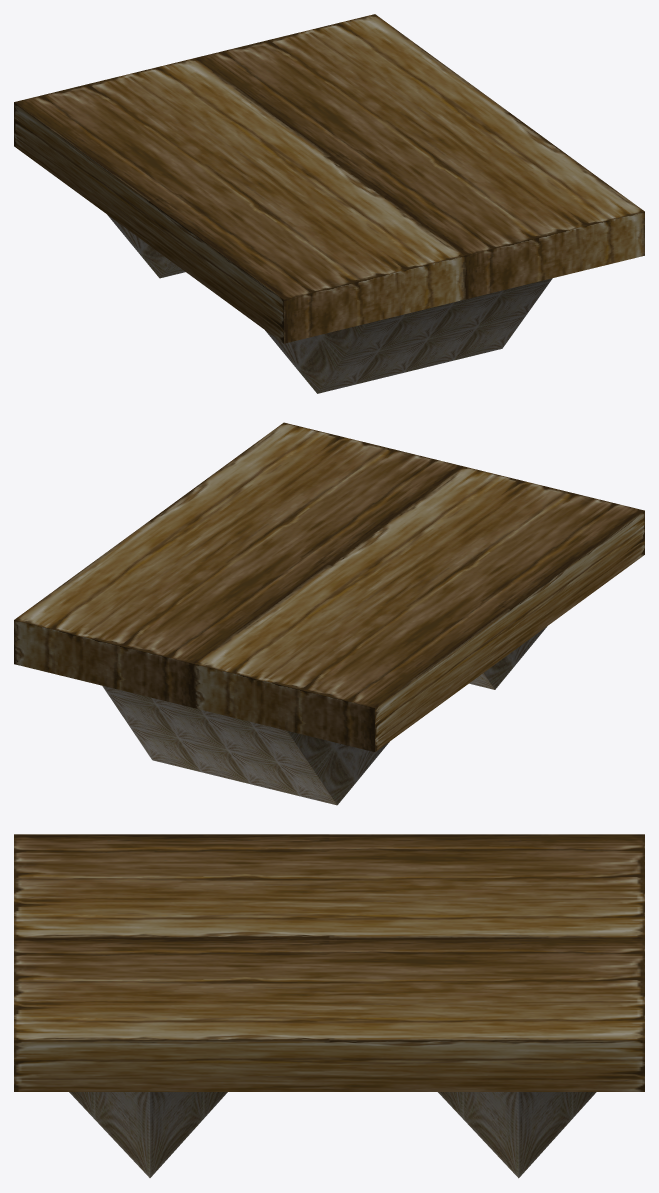
The model's file is pontoonfive-lod2.glb.
3 views of the same model, one above another, from view 1: azimuth 30°, elevation 25°; view 2: azimuth 150°, elevation 25°; view 3: azimuth 270°, elevation 25° (orthographic). The views are drawn at different scales.
Visible parts, largest first — view 1: pontoonfive-lod2; view 2: pontoonfive-lod2; view 3: pontoonfive-lod2.
Boxes of the visible parts, bbox=[...] form: pontoonfive-lod2: bbox=[14, 14, 644, 393]; pontoonfive-lod2: bbox=[14, 422, 644, 805]; pontoonfive-lod2: bbox=[14, 834, 644, 1178].
Bounding box in the file's own units: 4.87 × 2.05 × 6.31.
2 materials, 2 textured.
